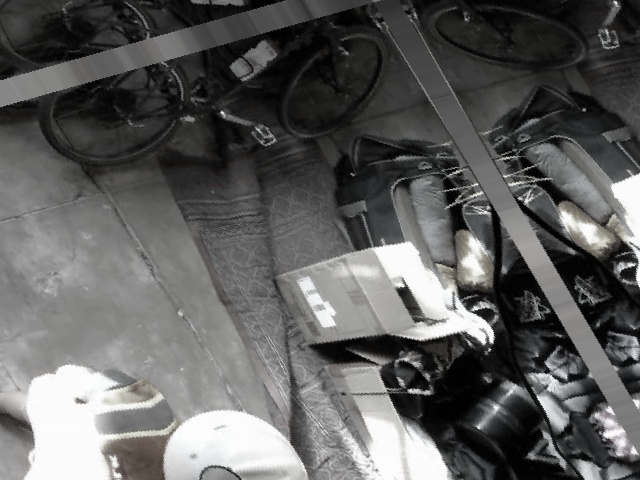one: (188, 459, 258, 479)
